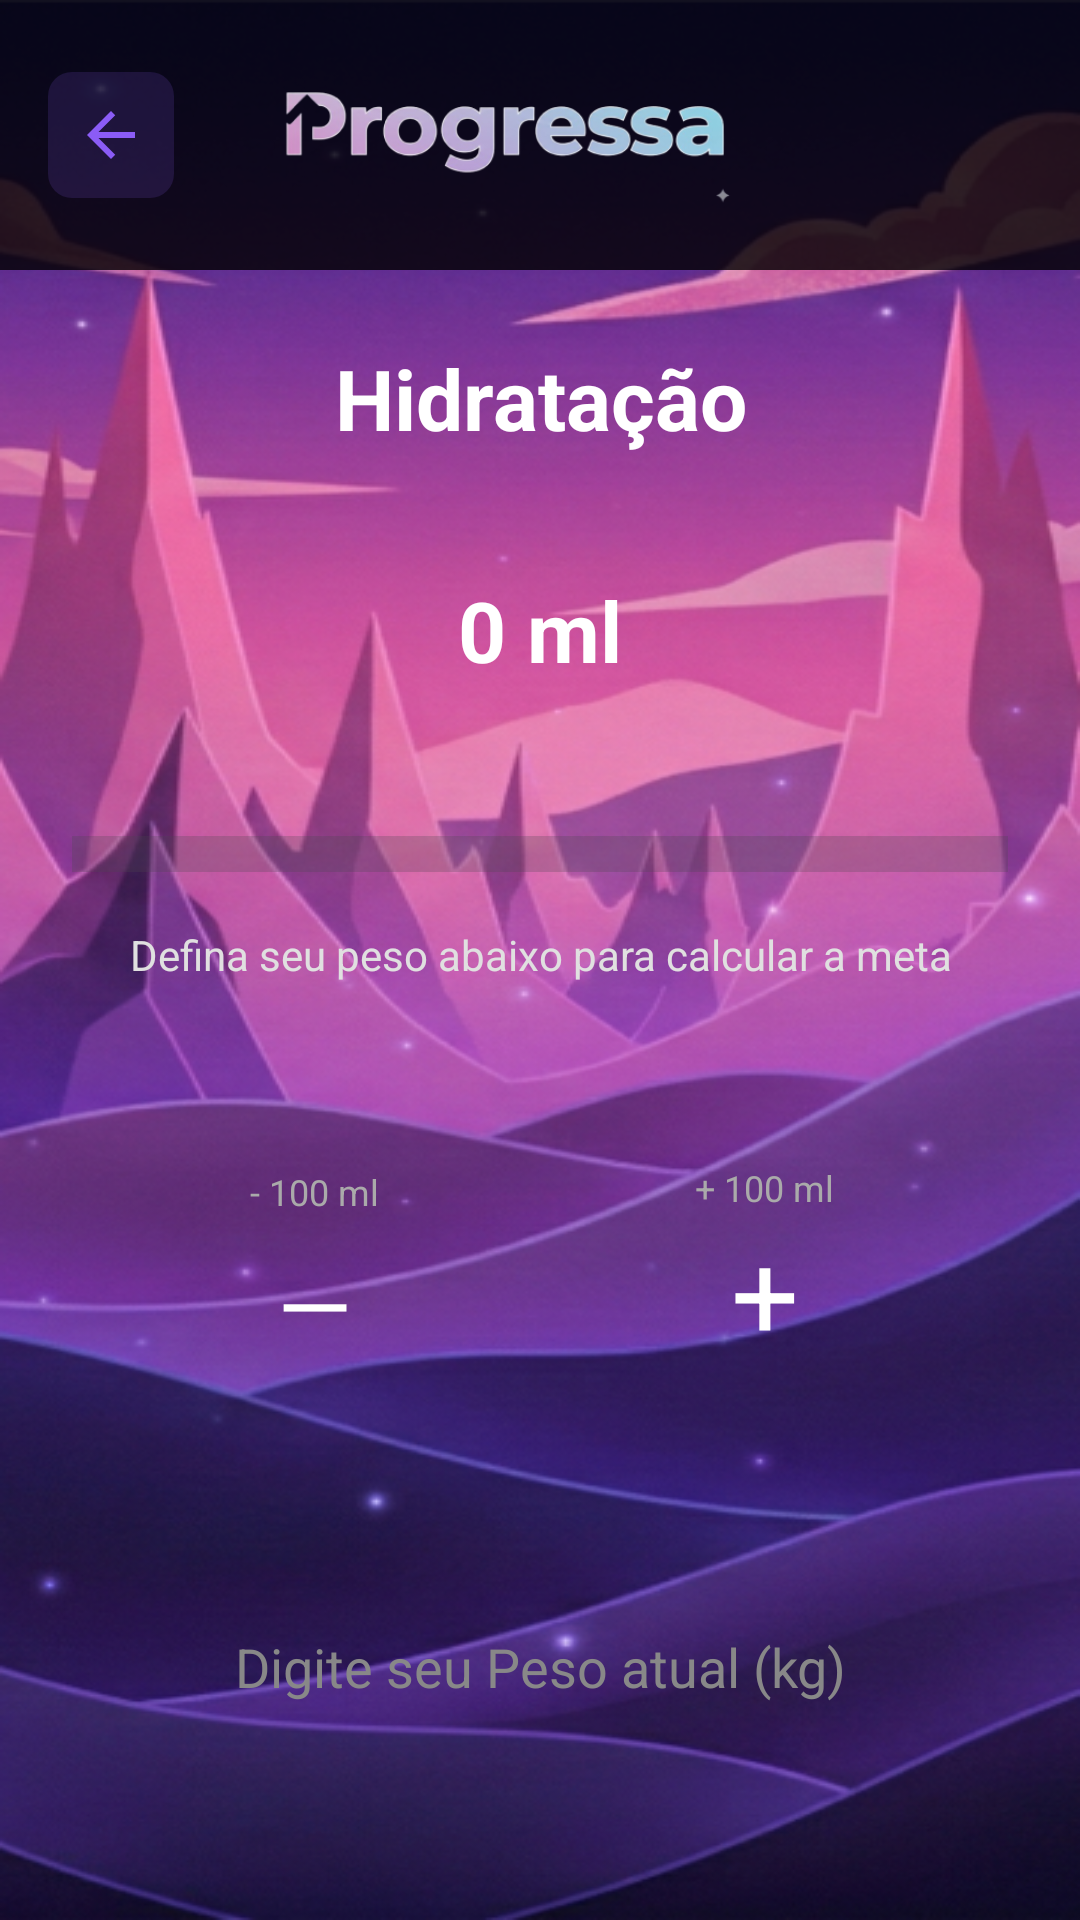

Point at icon controls on the screen. Image size 1080px×1920px, points as (x=x, y=y).
Voltar: (x=111, y=135)
